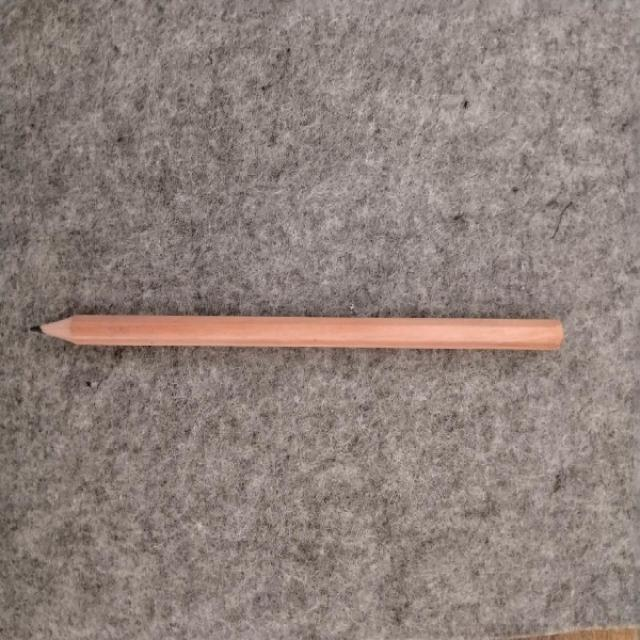pencil: (34, 315, 563, 349)
